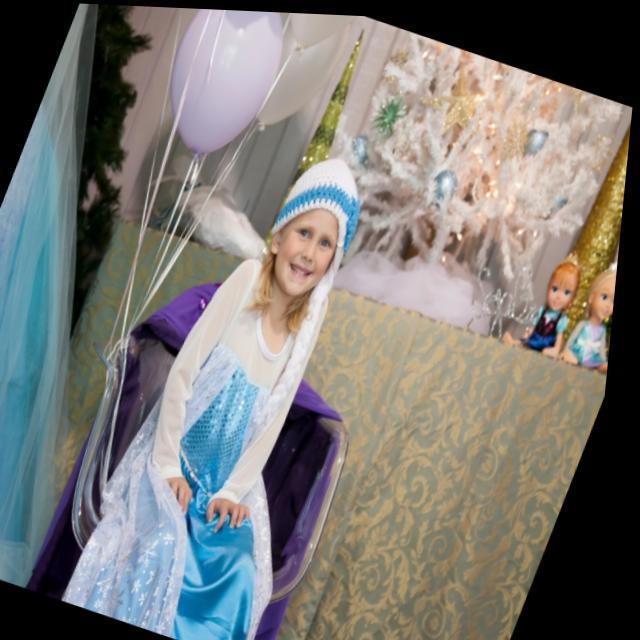Nonhelmet: (246, 155, 363, 332)
